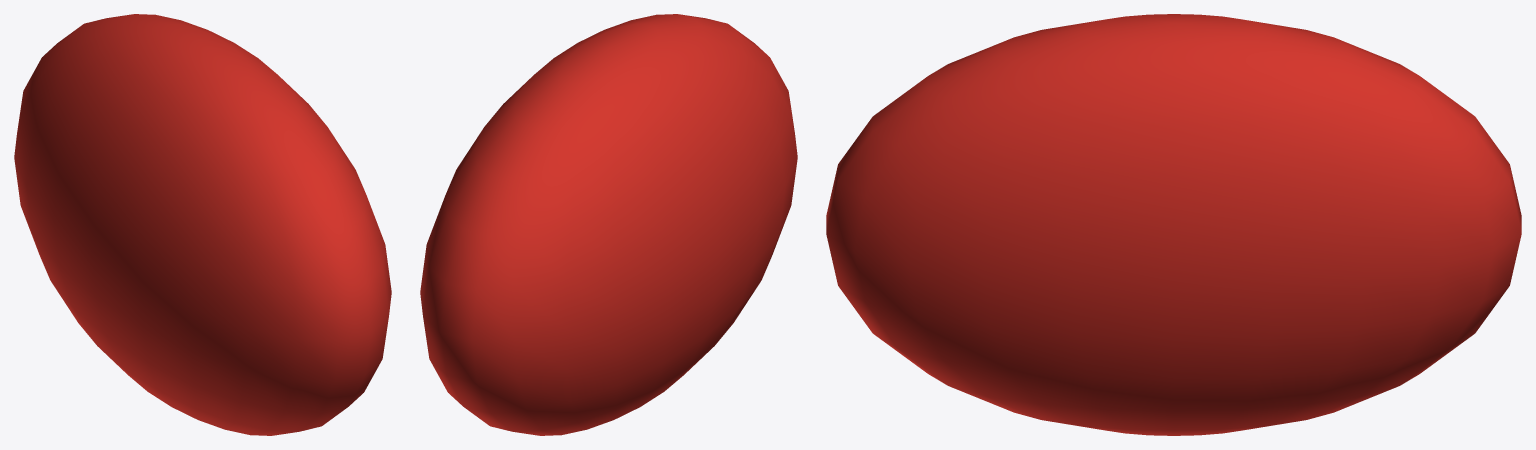
The model's file is taillight.glb.
3 renders of one model, left to right at view 1: azimuth 30°, elevation 25°; view 2: azimuth 150°, elevation 25°; view 3: azimuth 270°, elevation 25°, orthographic. The views are drawn at different scales.
Parts seen in each view (by area): view 1: S51_Taillight; view 2: S51_Taillight; view 3: S51_Taillight.
Part boxes in pixels (<box>): S51_Taillight: <box>14,14,391,435</box>; S51_Taillight: <box>420,14,797,435</box>; S51_Taillight: <box>826,14,1521,435</box>.
Size of the model in its own units: 0.17 by 0.26 by 0.4058.
